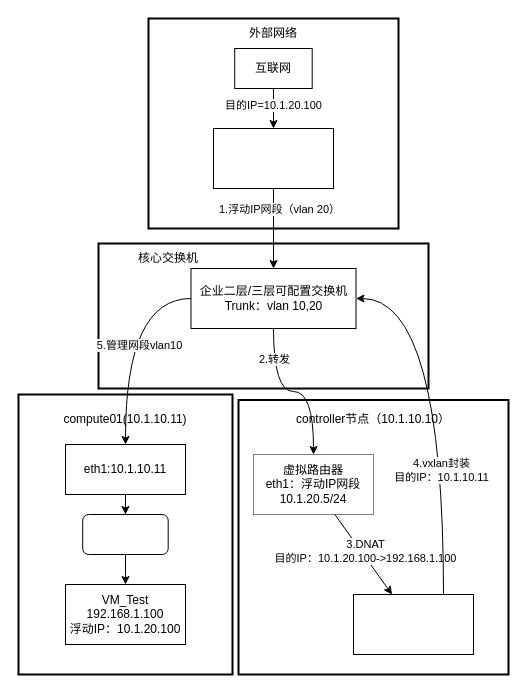
Some shapes in this 526 by 692 pixel diagram are drawn without their labels. Each missing label, with the centre of its shape:
"eth1:管理网段 10.1.10.10/24" goes at point 413,624.
"OVS br-int" goes at point 125,534.
"企业路由器 10.1.20.1" goes at point 273,158.
